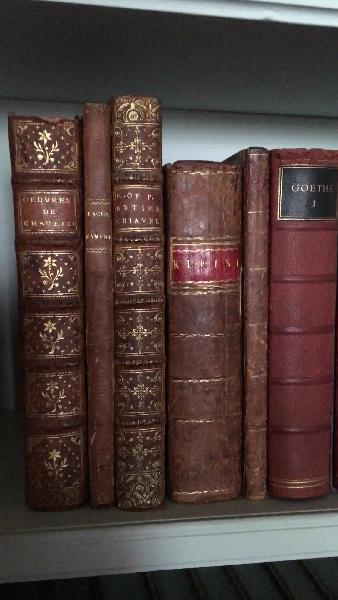Aa6-10: (241, 150, 267, 493)
Aa6-6: (9, 102, 86, 516)
Aa6-7: (82, 99, 114, 519)
Aa6-8: (108, 89, 171, 513)
Aa6-9: (165, 152, 248, 512)
